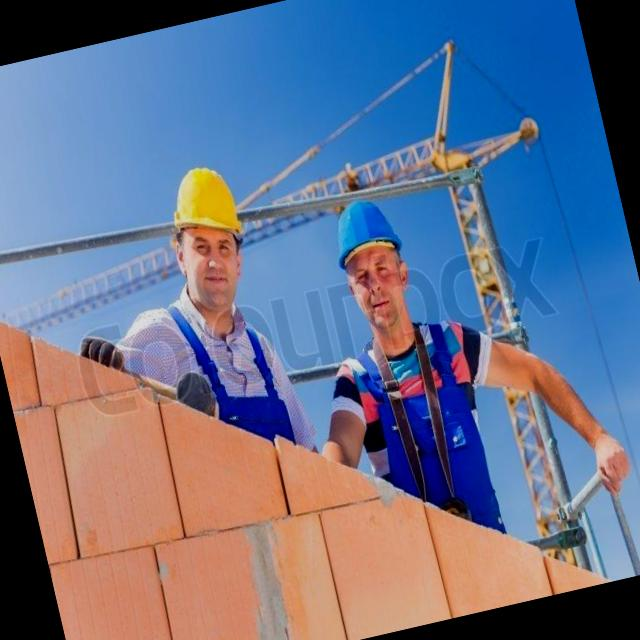helmet: (152, 159, 250, 264), (319, 185, 410, 284)
